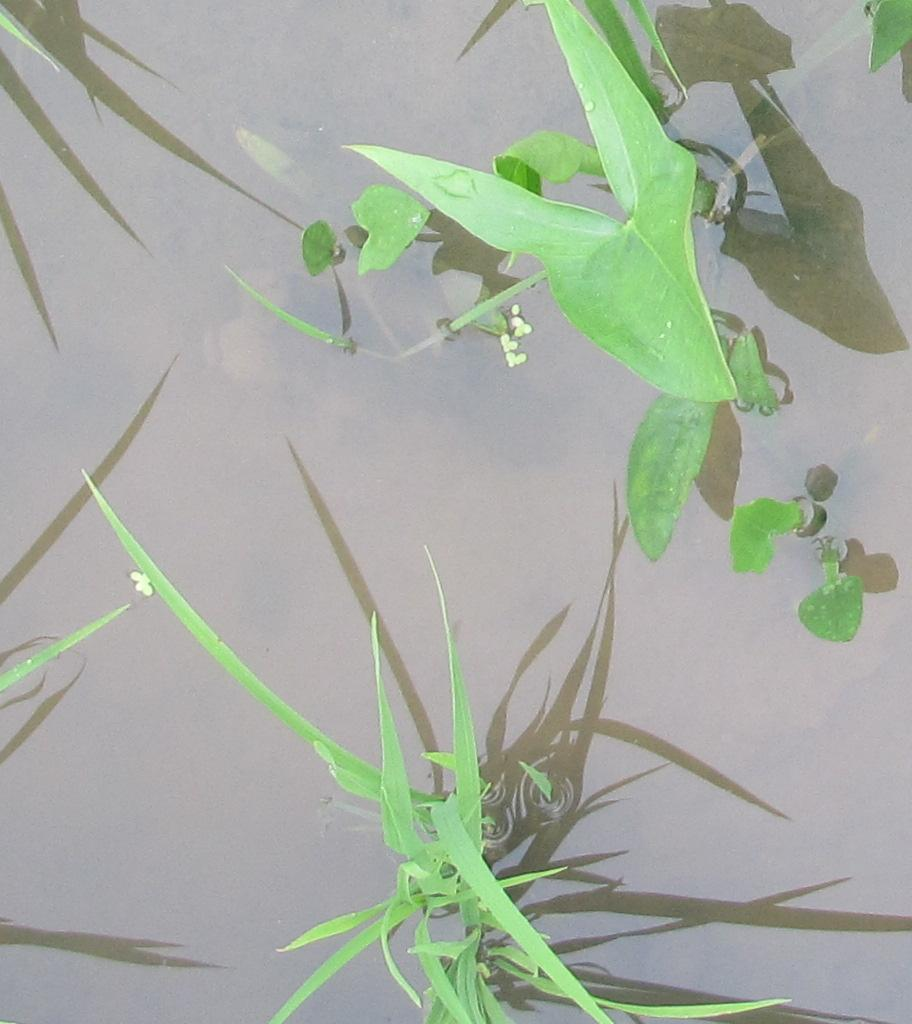Weed: (530, 97, 738, 397), (646, 402, 874, 649)
